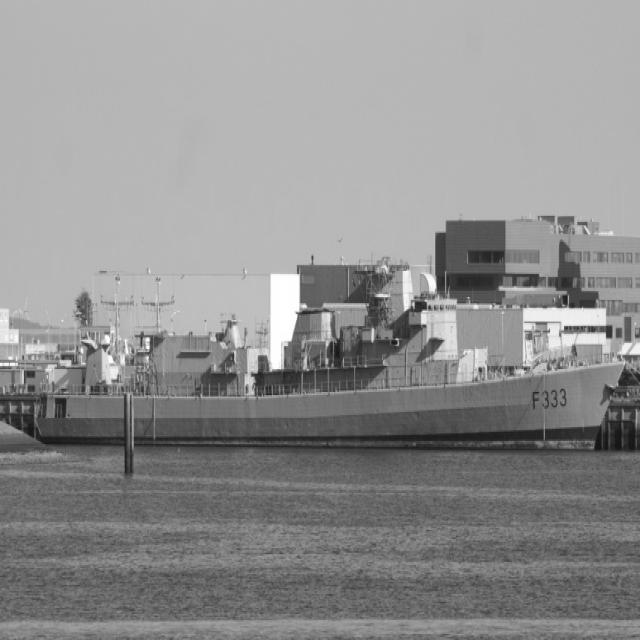Fragata: (35, 258, 633, 450)
